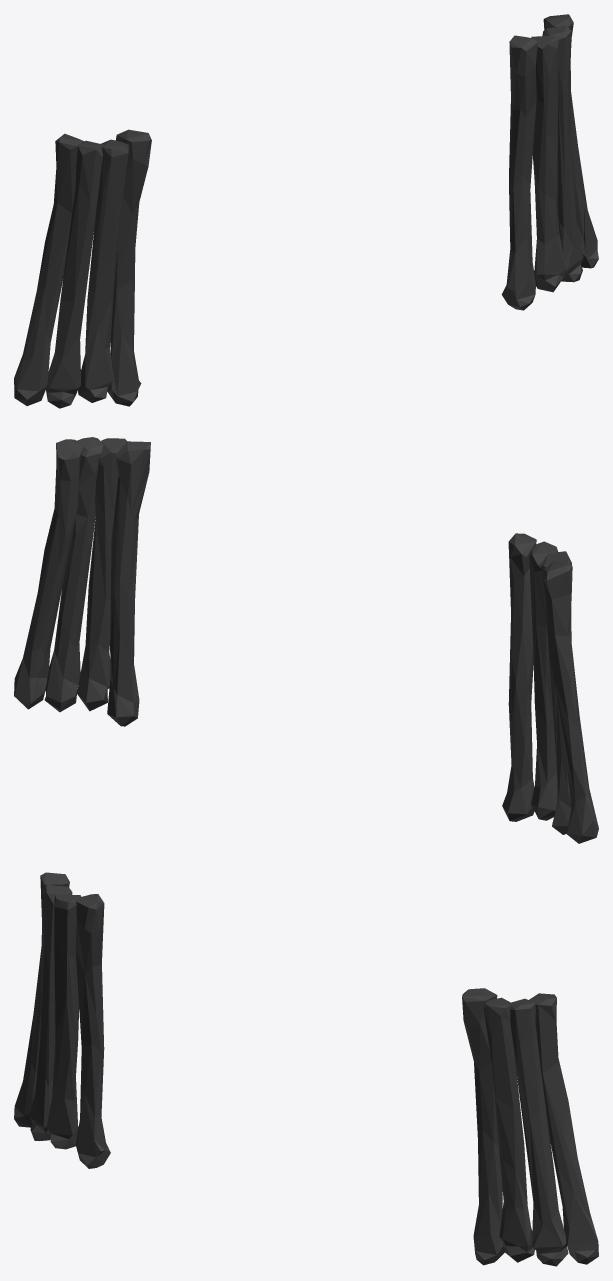
Rendered from Metatarsals.glb.
The picture shows the model from 3 angles, top to bottom: view 1: azimuth 30°, elevation 25°; view 2: azimuth 150°, elevation 25°; view 3: azimuth 330°, elevation 25°; orthographic projection.
Visible parts, largest first — view 1: Metatarsals; view 2: Metatarsals; view 3: Metatarsals.
Part boxes in pixels (x1,y1,x2,y2): Metatarsals: (14, 14, 598, 408); Metatarsals: (14, 437, 598, 843); Metatarsals: (14, 872, 598, 1266).
Bounding box in the file's own units: 0.00623 × 0.00283 × 0.000714.
1 material, 1 textured.
